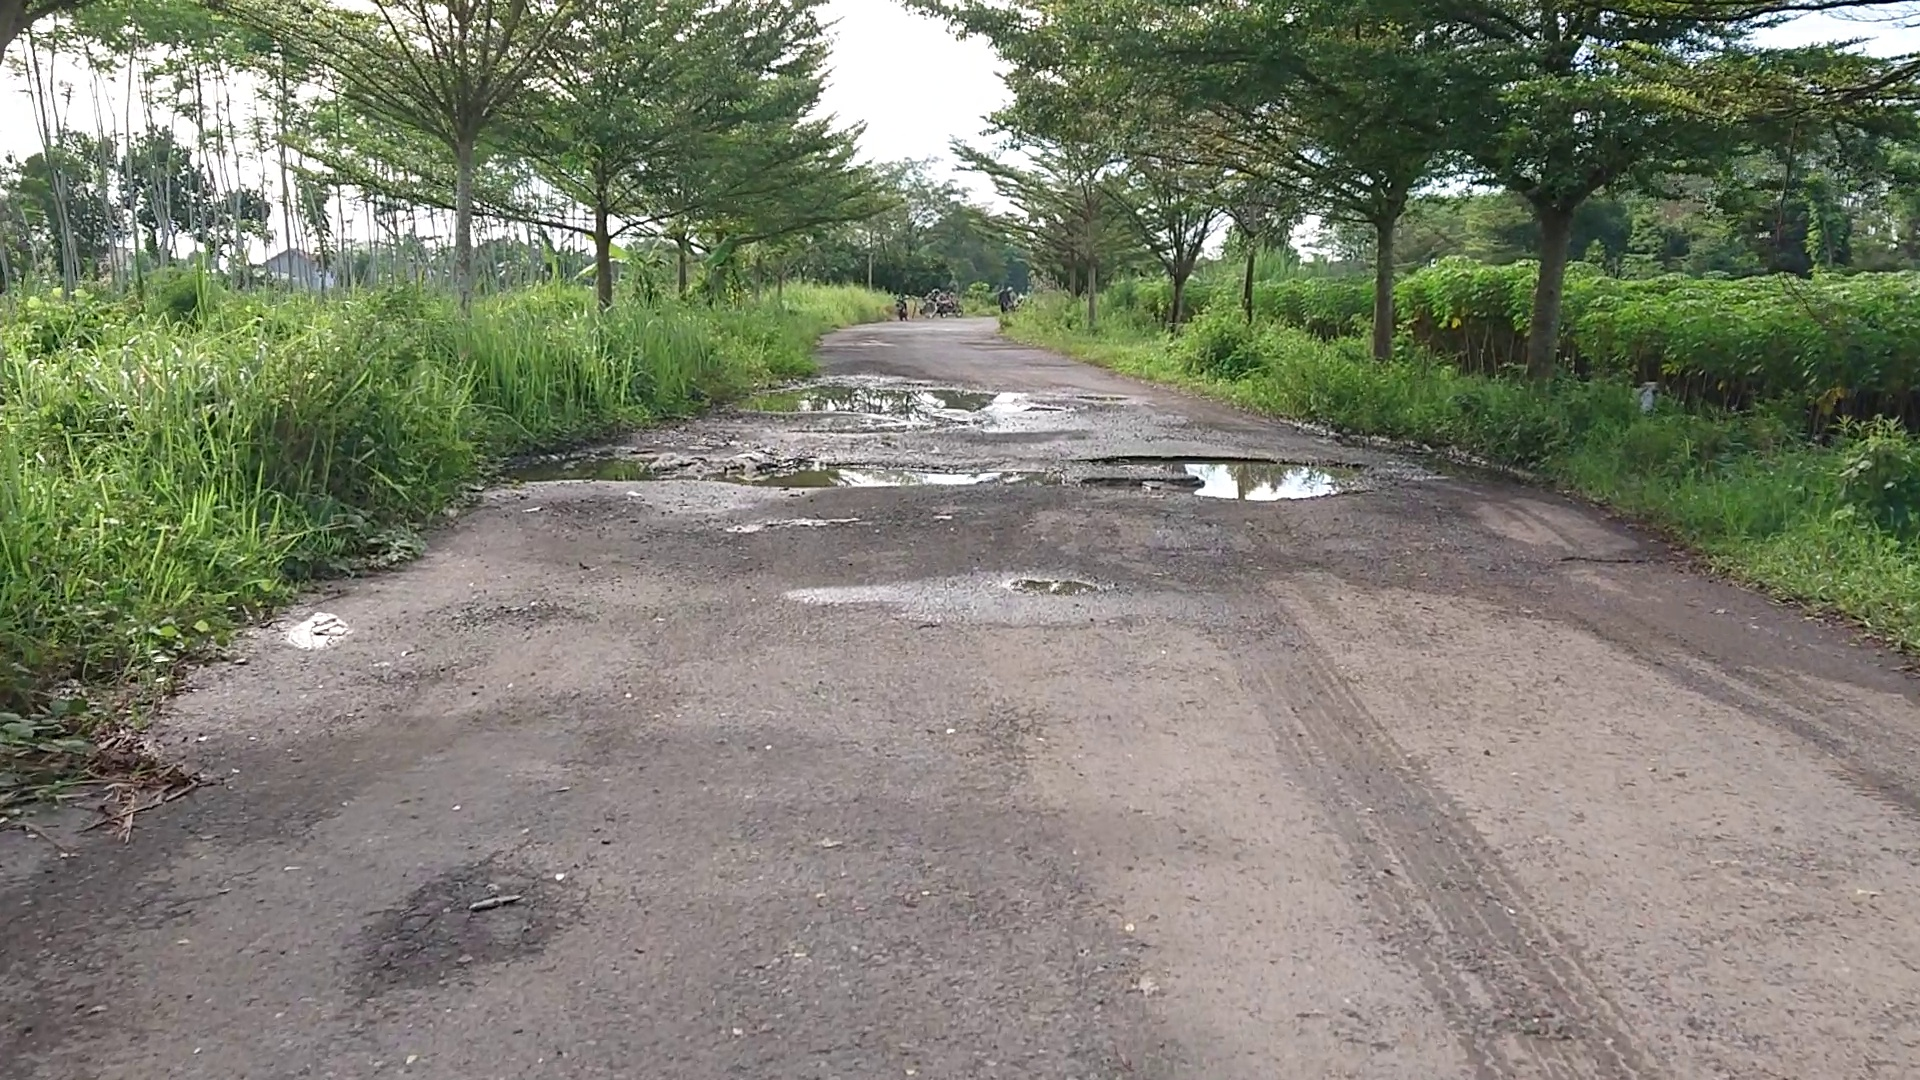Berlubang: (757, 375, 1081, 431), (1077, 458, 1379, 504), (764, 456, 1040, 491), (520, 456, 717, 480)
